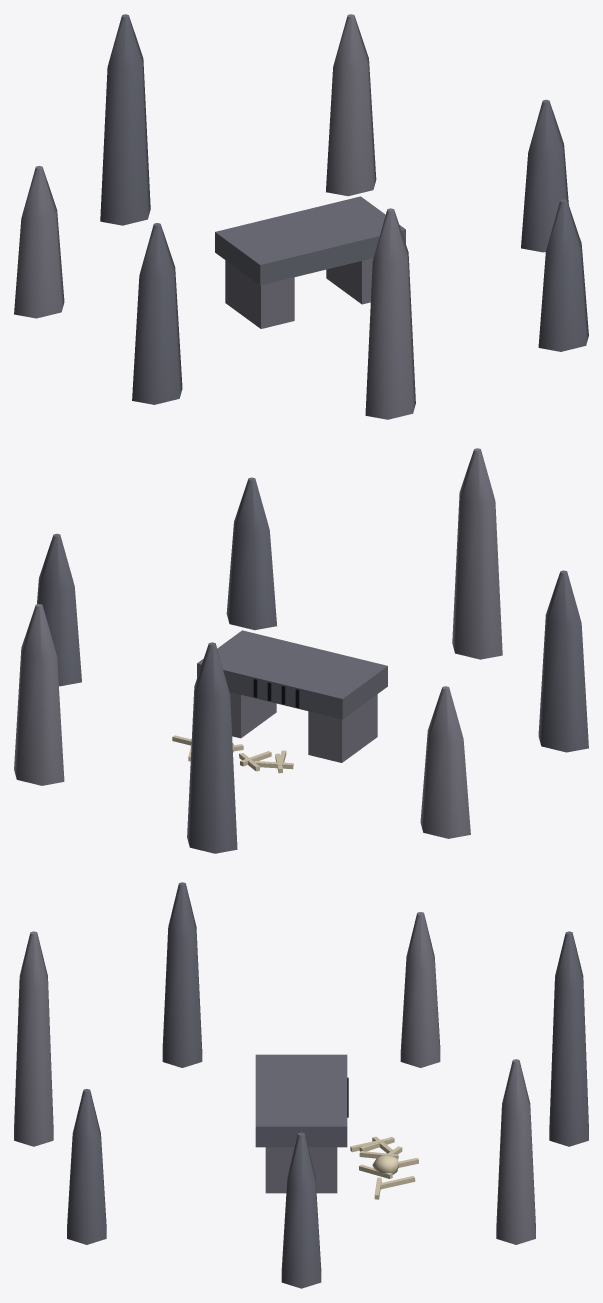
Rendered from moon_altar.glb.
The picture shows the model from 3 angles, top to bottom: view 1: azimuth 30°, elevation 25°; view 2: azimuth 150°, elevation 25°; view 3: azimuth 270°, elevation 25°; orthographic projection.
Visible parts, largest first — view 1: slab; view 2: slab; view 3: slab.
Boxes of the visible parts, left/top/right/bottom form: slab: left=14, top=14, right=588, bottom=419; slab: left=14, top=448, right=588, bottom=853; slab: left=14, top=882, right=588, bottom=1288.
Size of the model in its own units: 8.88 by 3.43 by 8.8.
